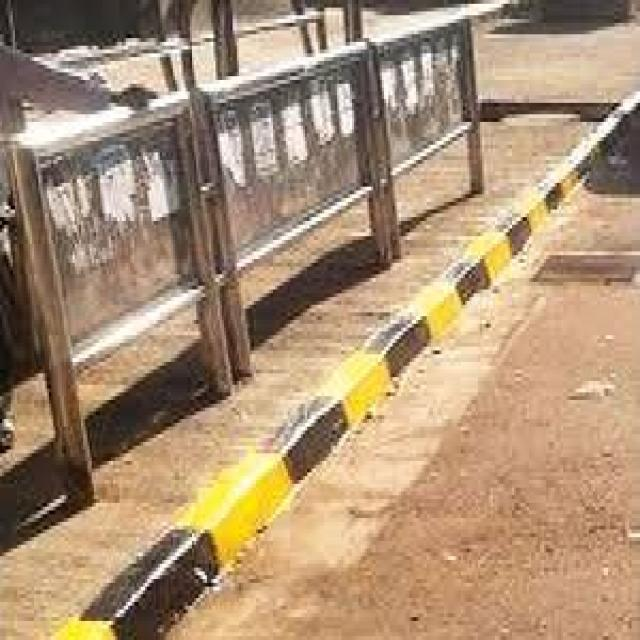curb: (55, 96, 640, 640)
